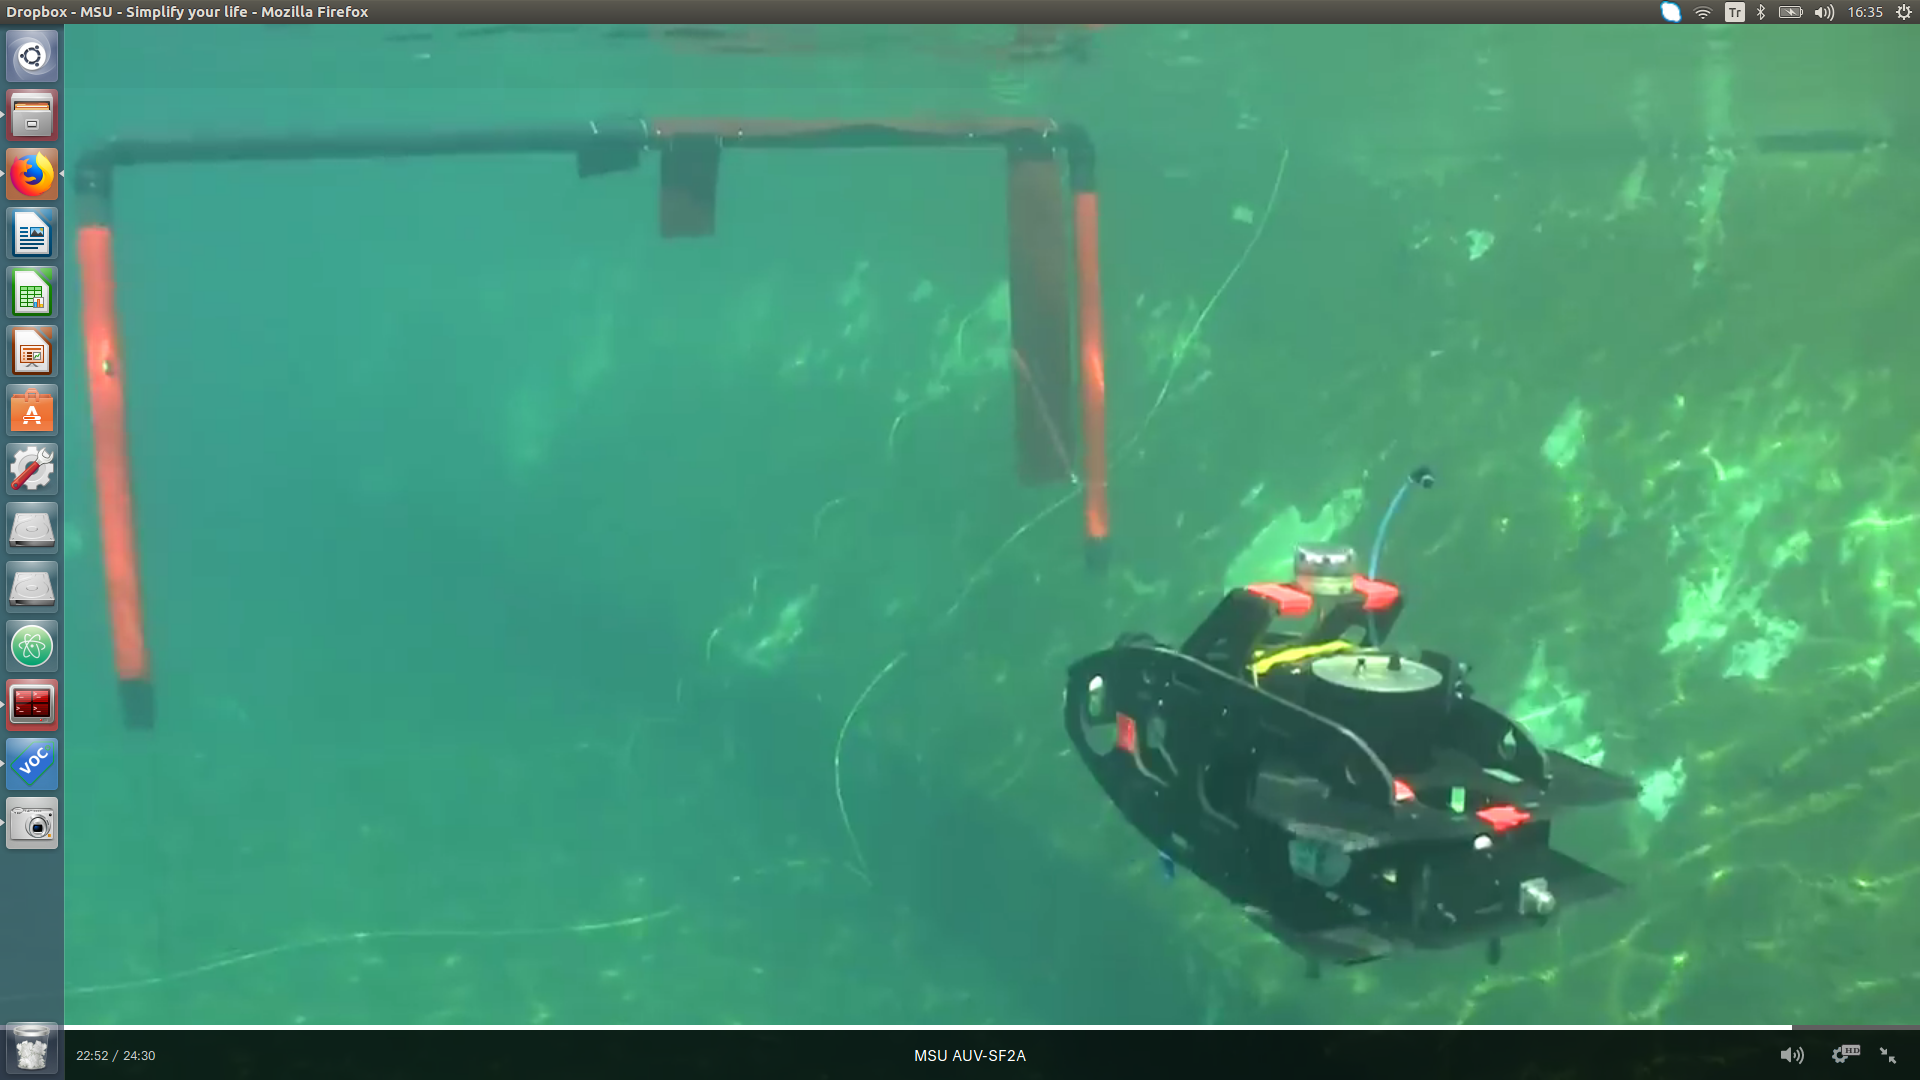gate: (83, 111, 1111, 743)
